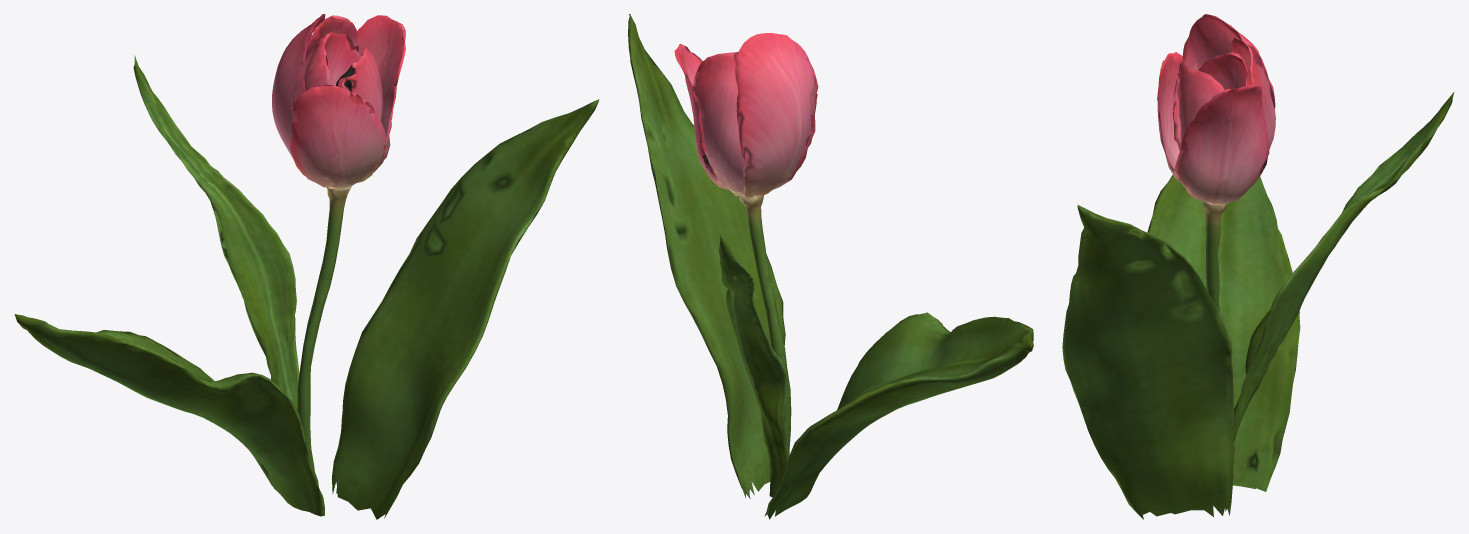
3 views of the same model, side by side, from view 1: azimuth 30°, elevation 25°; view 2: azimuth 150°, elevation 25°; view 3: azimuth 270°, elevation 25° (orthographic). The views are drawn at different scales.
Visible parts, largest first — view 1: 81b1e9be; view 2: 81b1e9be; view 3: 81b1e9be.
Part boxes in pixels (bbox=[...]): 81b1e9be: bbox=[14, 14, 599, 519]; 81b1e9be: bbox=[628, 14, 1033, 519]; 81b1e9be: bbox=[1062, 14, 1454, 519].
Bounding box in the file's own units: 0.0686 × 0.0634 × 0.046.
Materials: 1 (1 with a texture image).
